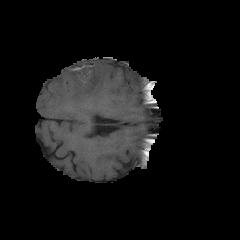glioma: (44, 63, 114, 113)
